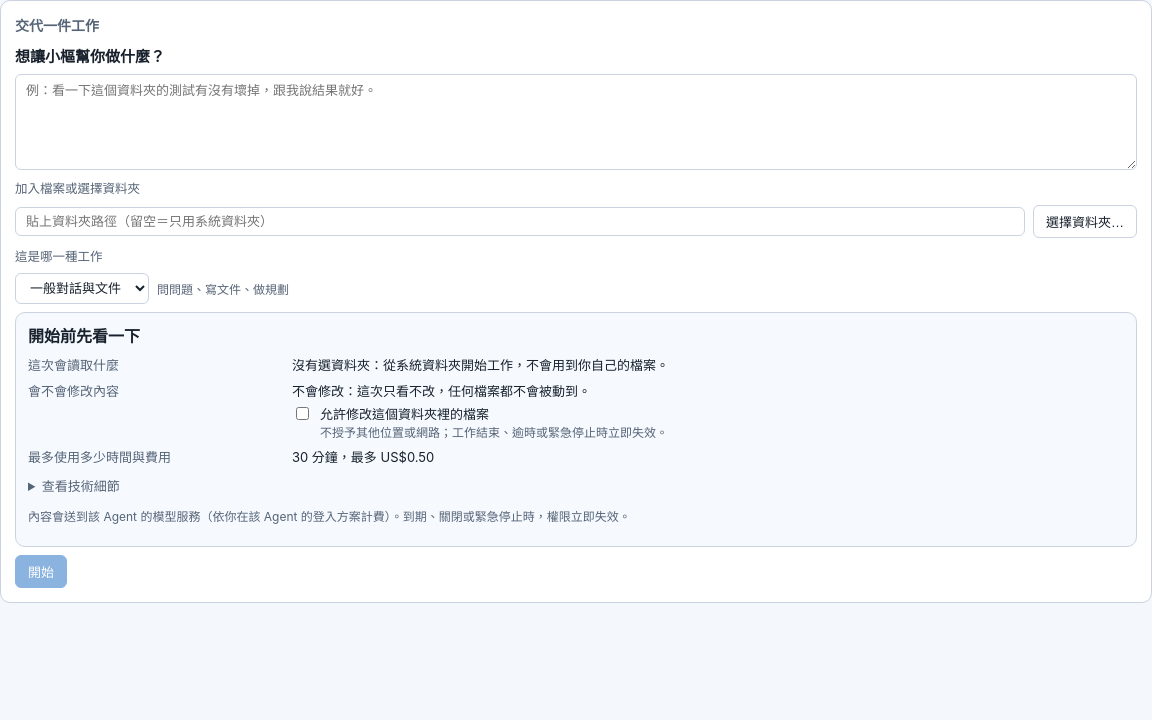
桌面版原生資料夾選擇器 › 換資料夾會作廢先前的寫入確認（授權對象變了就要重新同意）
Type "修掉失敗的測試" into the text box labelled "想讓小樞幫你做什麼？" at (576, 122), box [15,74,1137,170]
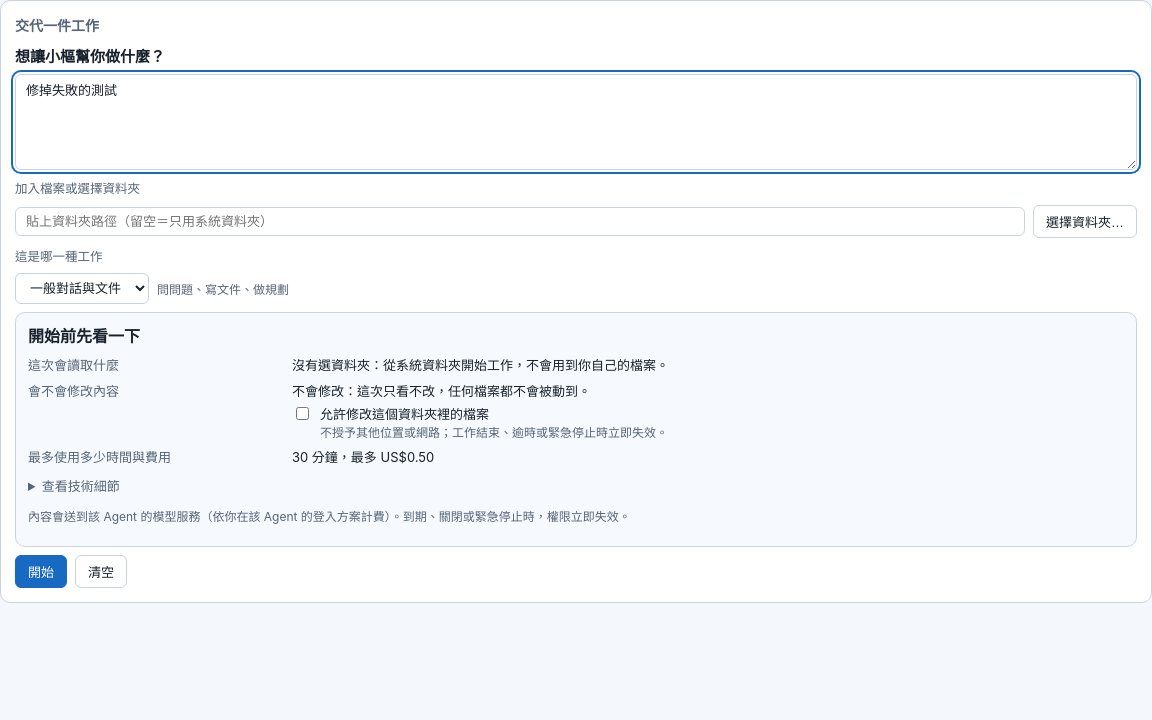
Type "/tmp/old" into the field labelled "加入檔案或選擇資料夾" at (520, 222), box [15,207,1025,236]
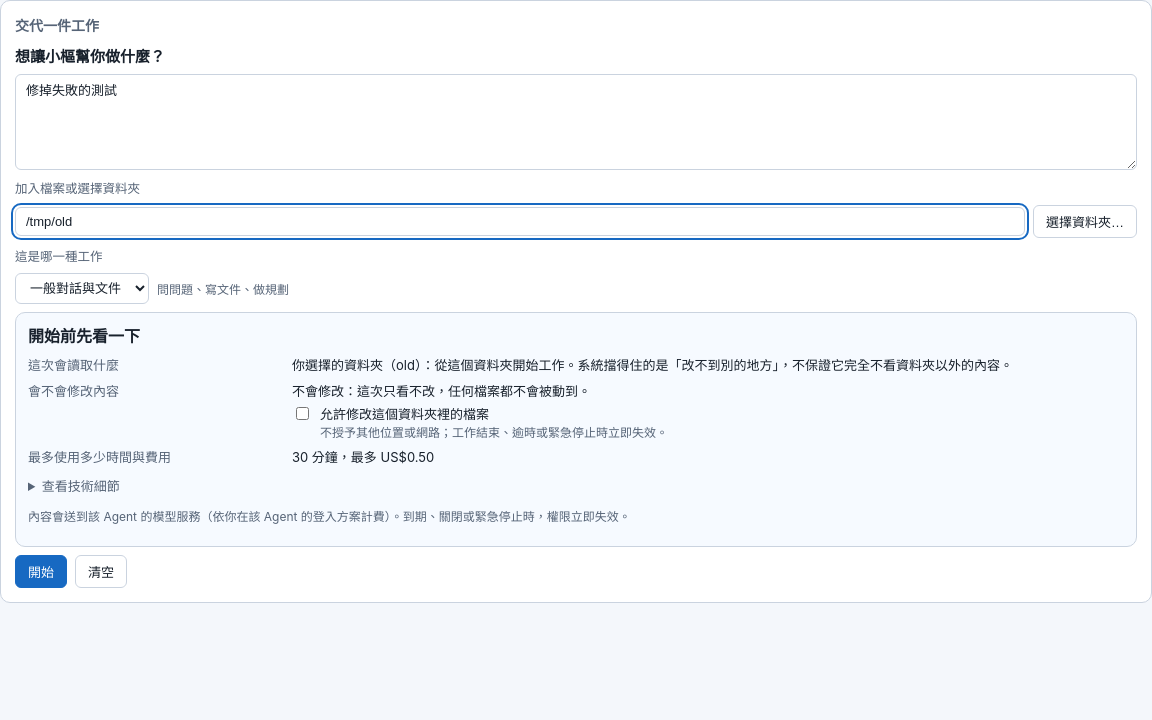
Click the checkbox labelled "允許修改這個資料夾裡的檔案 不授予其他位置或網路；工作結束、逾時或緊急停止時立即失效。" at (302, 414), box [296,407,309,420]
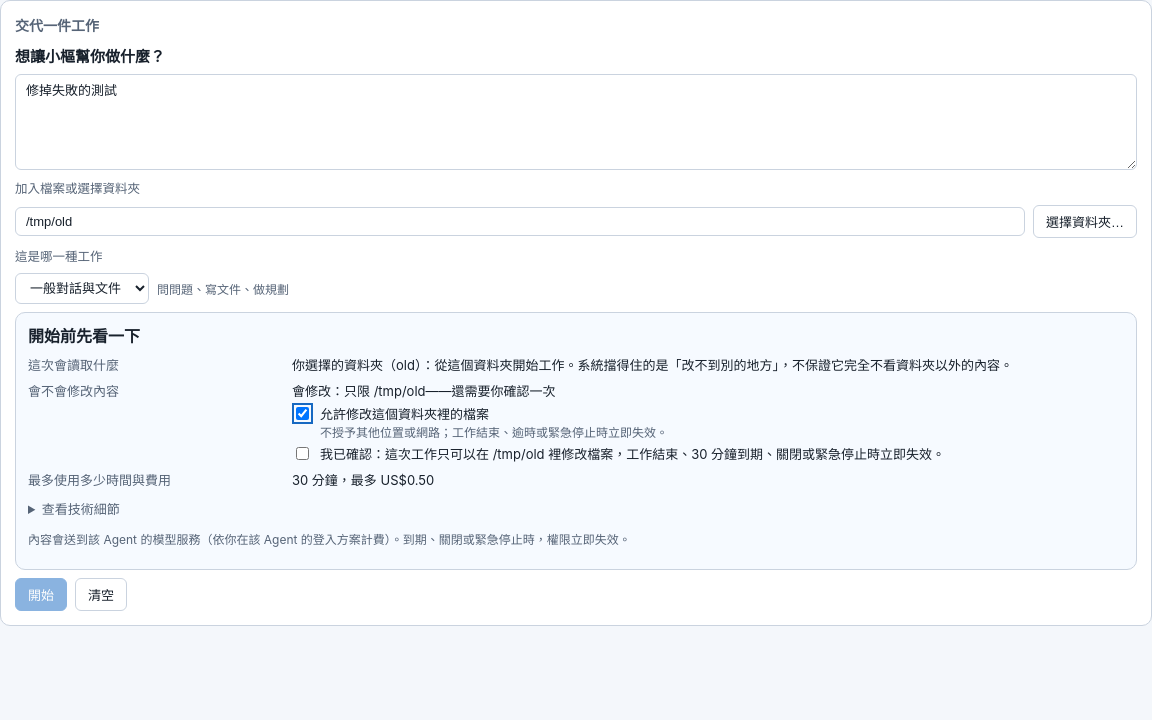
Click the checkbox labelled "我已確認：這次工作只可以在 /tmp/old 裡修改檔案，工作結束、30 分鐘到期、關閉或緊急停止時立即失效。" at (302, 454), box [296,447,309,460]
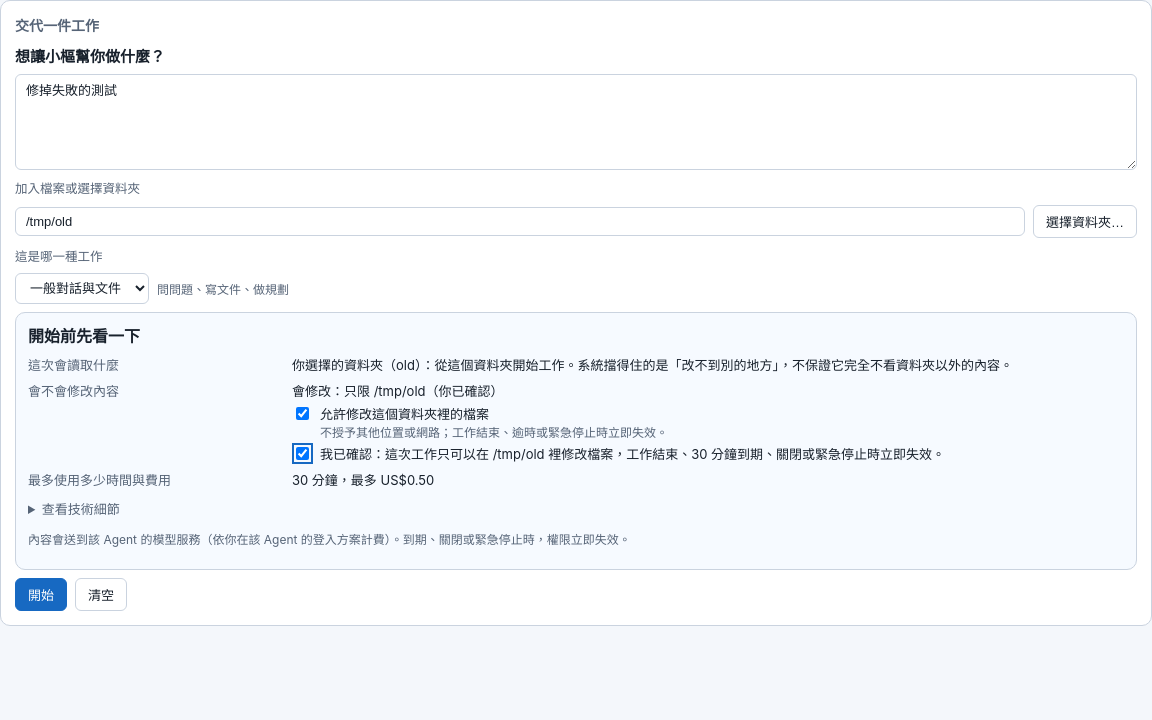
Expected: the button "開始" is enabled, [15,578,67,611]
Click the button "選擇資料夾…" at (1085, 222), box [1033,205,1137,238]
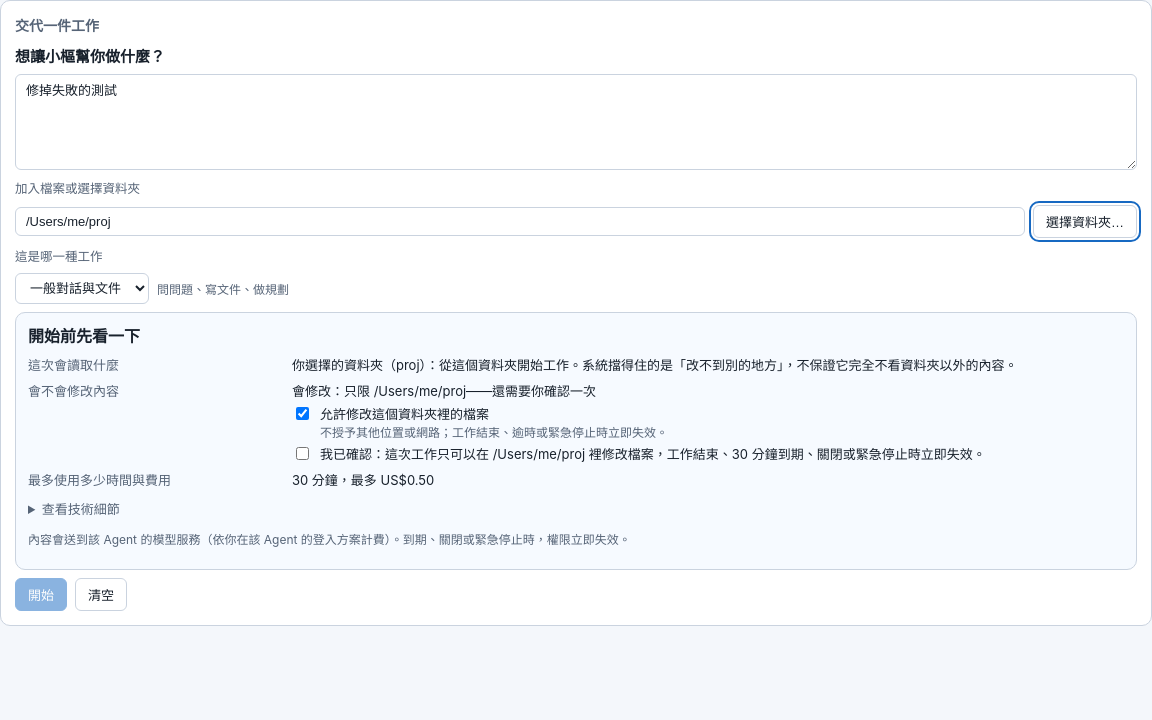
Expected: the checkbox labelled "我已確認：這次工作只可以在 /Users/me/proj 裡修改檔案" is not checked, [296,447,309,460]
Expected: the button "開始" is disabled, [15,578,67,611]
